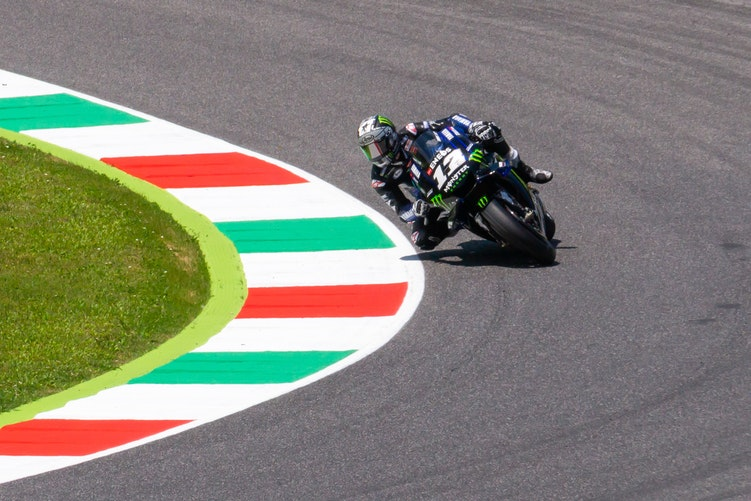helmet: (358, 114, 392, 165)
